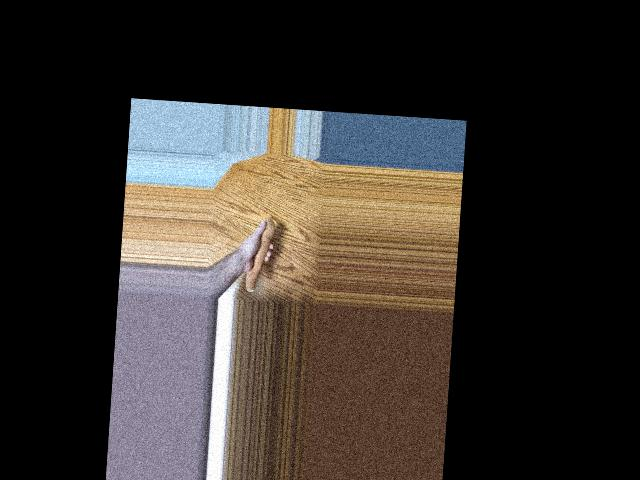sweet_potato: (243, 217, 275, 294)
